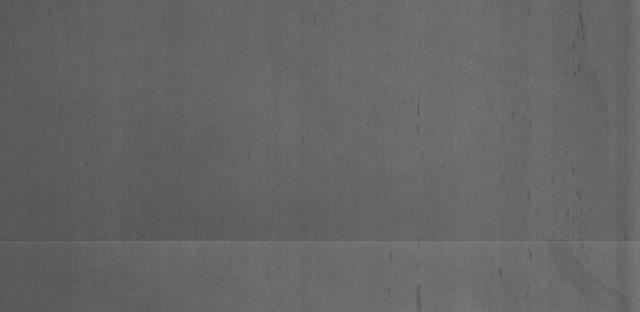welding_line: (0, 230, 638, 255)
